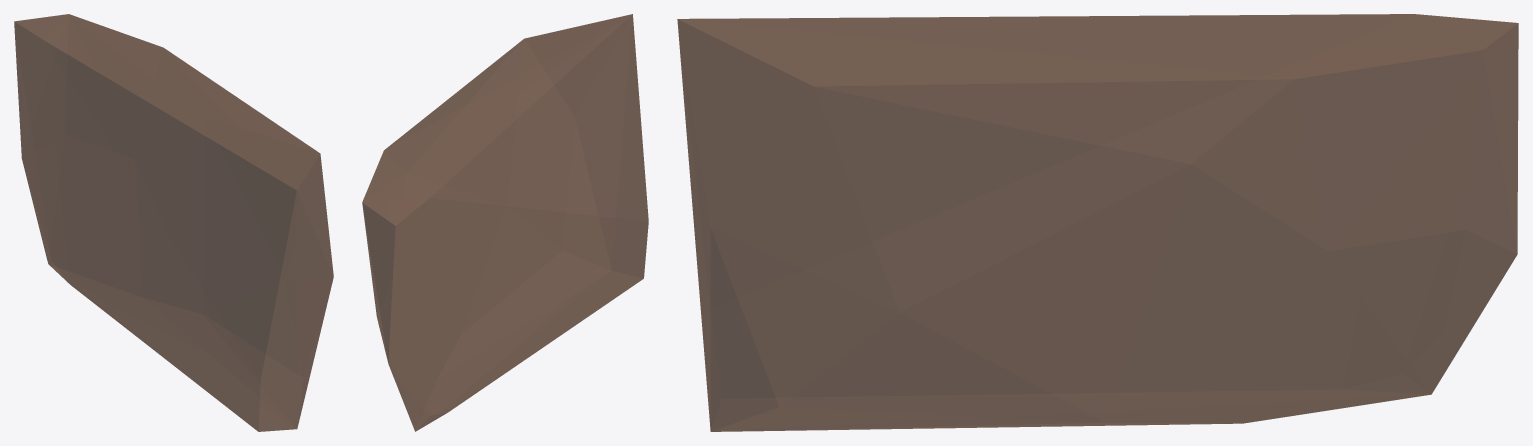
The picture shows the model from 3 angles, left to right: view 1: azimuth 30°, elevation 25°; view 2: azimuth 150°, elevation 25°; view 3: azimuth 270°, elevation 25°; orthographic projection. The views are drawn at different scales.
Visible parts, largest first — view 1: Shape_IndexedFaceSet.080_Shape_IndexedFaceSet.121; view 2: Shape_IndexedFaceSet.080_Shape_IndexedFaceSet.121; view 3: Shape_IndexedFaceSet.080_Shape_IndexedFaceSet.121.
Boxes of the visible parts, x1,y1,x2,y2 form: Shape_IndexedFaceSet.080_Shape_IndexedFaceSet.121: (14,14,333,431); Shape_IndexedFaceSet.080_Shape_IndexedFaceSet.121: (362,14,648,431); Shape_IndexedFaceSet.080_Shape_IndexedFaceSet.121: (677,14,1518,431).
Size of the model in its own units: 0.0766 by 0.1994 by 0.3756.
